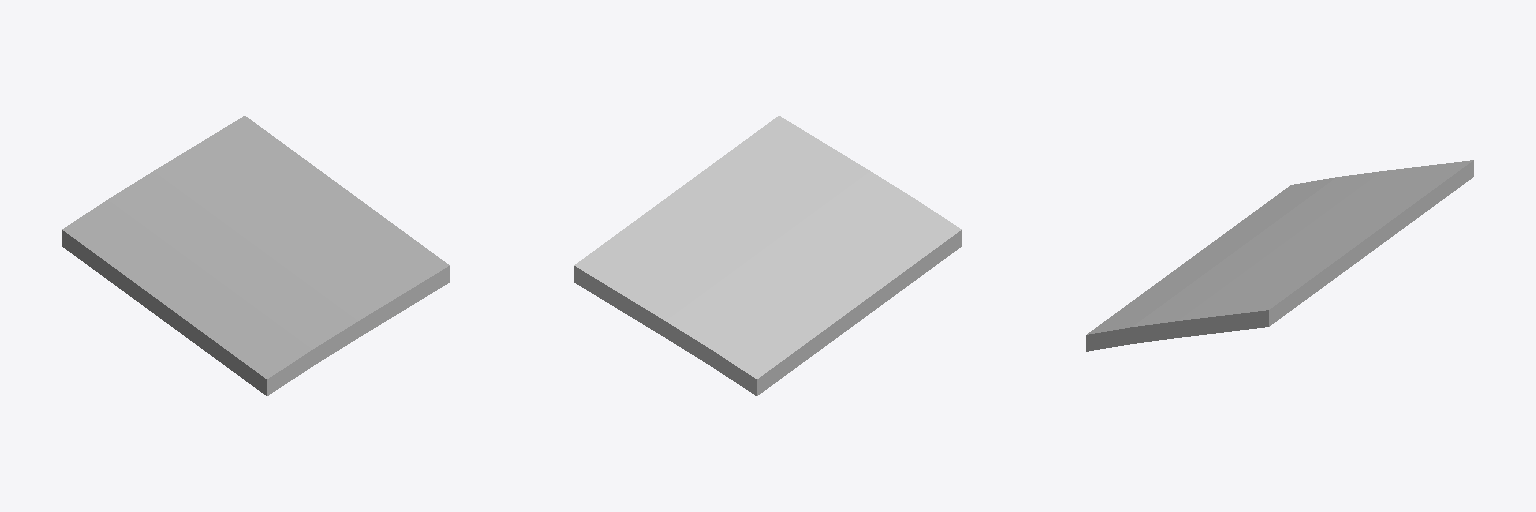
Rendered from house44.obj.
3 renders of one model, left to right at view 1: azimuth 30°, elevation 25°; view 2: azimuth 150°, elevation 25°; view 3: azimuth 330°, elevation 25°, orthographic.
Parts seen in each view (by area): view 1: 立方体.061; view 2: 立方体.061; view 3: 立方体.061.
Part boxes in pixels (left/top/right/bottom): 立方体.061: left=62, top=116, right=449, bottom=395; 立方体.061: left=574, top=116, right=961, bottom=395; 立方体.061: left=1086, top=160, right=1473, bottom=351.
Bounding box in the file's own units: 34 × 15.35 × 66.